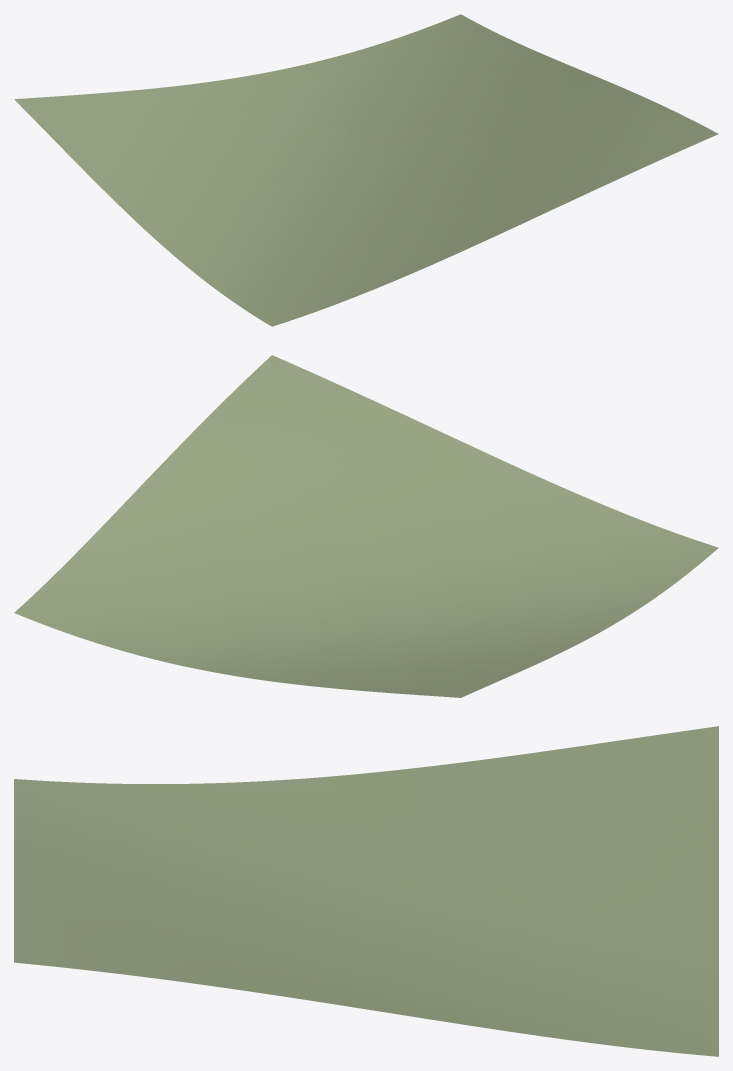
The model's file is expanse-14-18.glb.
3 views of the same model, one above another, from view 1: azimuth 30°, elevation 25°; view 2: azimuth 150°, elevation 25°; view 3: azimuth 270°, elevation 25° (orthographic). The views are drawn at different scales.
Visible parts, largest first — view 1: expanse-14-18; view 2: expanse-14-18; view 3: expanse-14-18.
Boxes of the visible parts, box(x1,y1,x2,y2) form: expanse-14-18: box(14, 14, 718, 326); expanse-14-18: box(14, 355, 718, 697); expanse-14-18: box(14, 726, 718, 1056).
Bounding box in the file's own units: 256 × 48.02 × 256.
